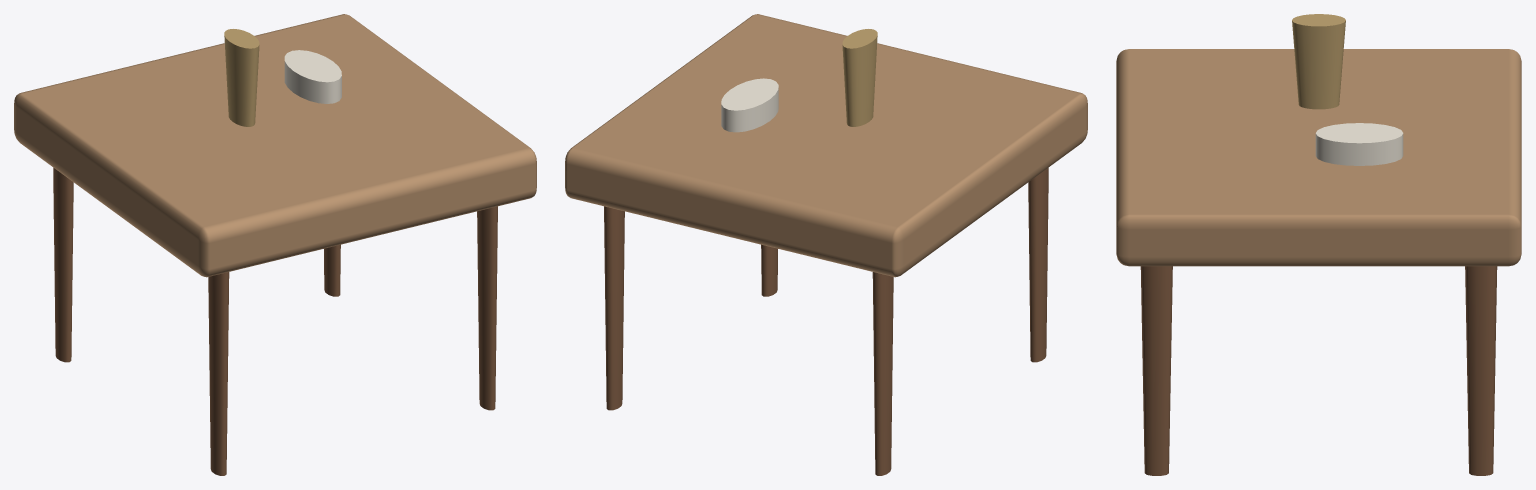
The model's file is table-4-4.glb.
The picture shows the model from 3 angles, left to right: view 1: azimuth 30°, elevation 25°; view 2: azimuth 150°, elevation 25°; view 3: azimuth 270°, elevation 25°; orthographic projection. The views are drawn at different scales.
Parts seen in each view (by area): view 1: upholstery, part (×3); view 2: upholstery, part (×3); view 3: upholstery, part (×3).
Boxes of the visible parts, left/top/right/bottom form: upholstery: left=14, top=14, right=536, bottom=277; part (×3): left=53, top=29, right=497, bottom=475; upholstery: left=565, top=14, right=1087, bottom=277; part (×3): left=604, top=29, right=1048, bottom=475; upholstery: left=1116, top=49, right=1521, bottom=266; part (×3): left=1140, top=14, right=1497, bottom=475.
Bounding box in the file's own units: 1 × 1 × 1.
